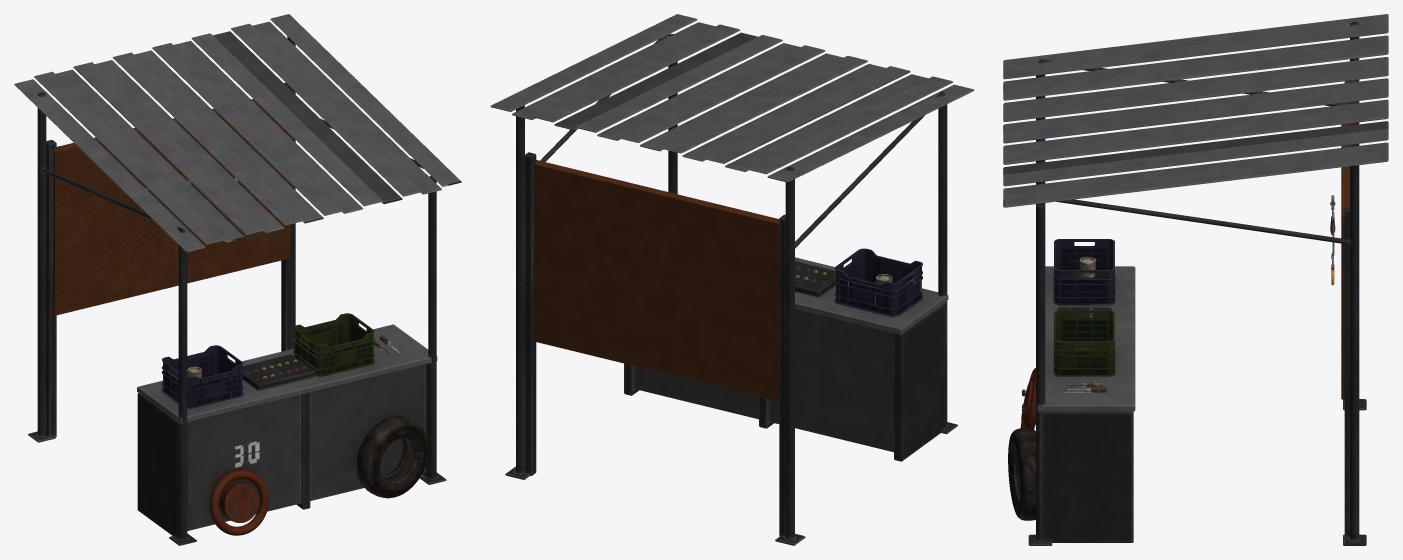
Rendered from parts_stall.glb.
The picture shows the model from 3 angles, left to right: view 1: azimuth 30°, elevation 25°; view 2: azimuth 150°, elevation 25°; view 3: azimuth 270°, elevation 25°; orthographic projection. The views are drawn at different scales.
Parts seen in each view (by area): view 1: parts_stall; view 2: parts_stall; view 3: parts_stall.
Boxes of the visible parts, x1,y1,x2,y2 form: parts_stall: (14,14,461,545); parts_stall: (490,14,974,545); parts_stall: (1003,14,1388,545).
Bounding box in the file's own units: 2.1 × 2.55 × 2.28.
Materials: 3 (3 with a texture image).
